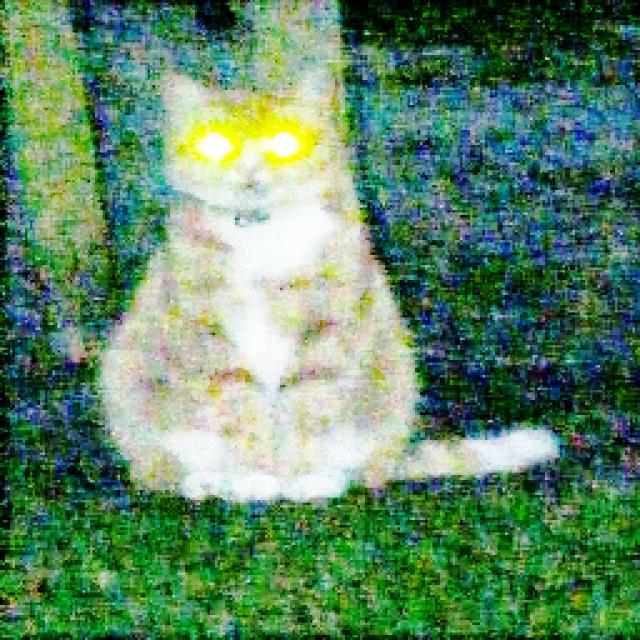cat: (75, 32, 569, 530)
